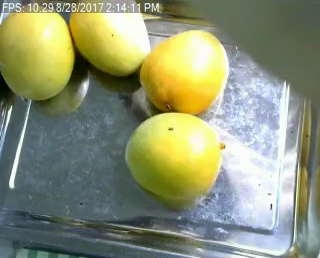Mango: (127, 112, 223, 199), (137, 30, 226, 114), (0, 4, 74, 99), (68, 0, 151, 80)
